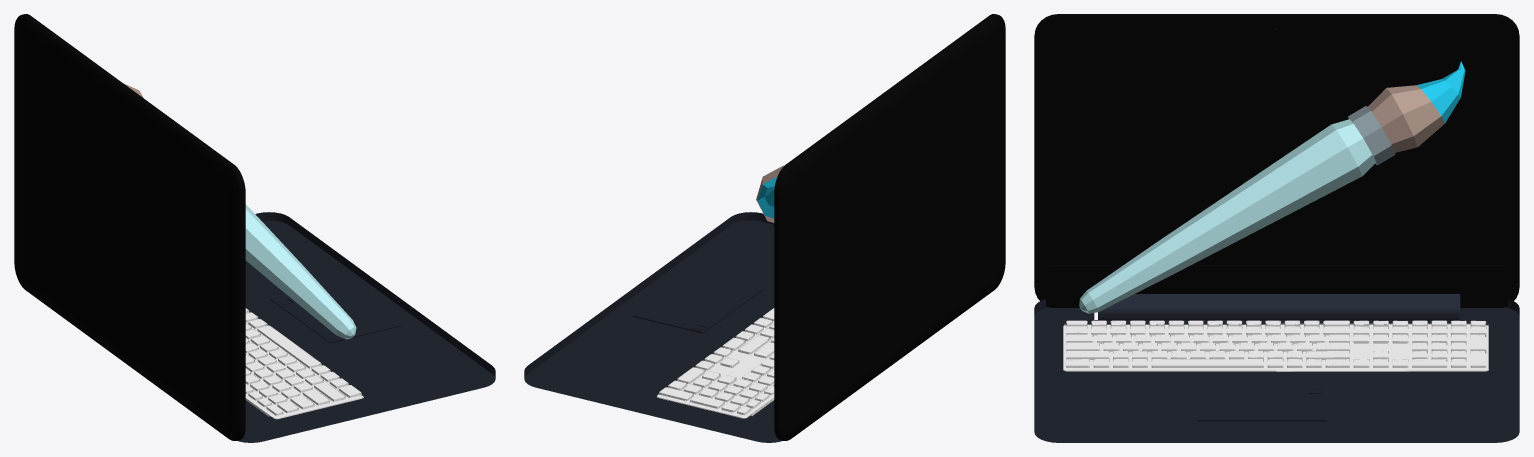
The model's file is portfolio.glb.
3 renders of one model, left to right at view 1: azimuth 30°, elevation 25°; view 2: azimuth 150°, elevation 25°; view 3: azimuth 270°, elevation 25°, orthographic. The views are drawn at different scales.
Parts seen in each view (by area): view 1: Cube, Cube.001, node_id51.001, Mesh_0; view 2: Cube, Cube.001, node_id51.001, Mesh_3; view 3: Cube, Cube.001, node_id51.001, Mesh_0, Mesh_1, Mesh_3, Mesh_2.
Part boxes in pixels (<box>): Cube: <box>14,14,245,440</box>; Cube.001: <box>237,212,495,442</box>; node_id51.001: <box>245,308,363,419</box>; Mesh_0: <box>245,204,356,339</box>; Cube: <box>774,14,1005,440</box>; Cube.001: <box>524,212,782,442</box>; node_id51.001: <box>657,308,774,418</box>; Mesh_3: <box>757,177,777,218</box>; Cube: <box>1034,14,1519,319</box>; Cube.001: <box>1034,299,1519,442</box>; node_id51.001: <box>1063,320,1488,371</box>; Mesh_0: <box>1079,119,1375,313</box>; Mesh_1: <box>1368,85,1444,152</box>; Mesh_3: <box>1416,61,1465,122</box>; Mesh_2: <box>1348,106,1395,165</box>.
Bounding box in the file's own units: 1.04 × 1.03 × 1.52.
